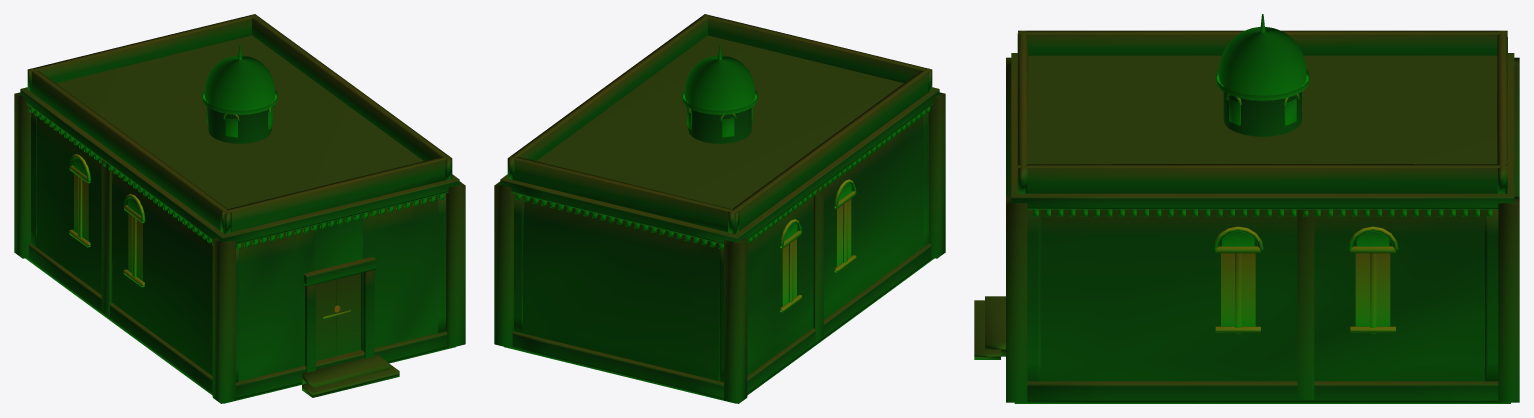
File: order_chapel.glb
3 views of the same model, side by side, from view 1: azimuth 30°, elevation 25°; view 2: azimuth 150°, elevation 25°; view 3: azimuth 270°, elevation 25° (orthographic). The views are drawn at different scales.
Visible parts, largest first — view 1: order_chapel; view 2: order_chapel; view 3: order_chapel.
Boxes of the visible parts, box(x1,y1,x2,y2) form: order_chapel: box(14, 14, 465, 403); order_chapel: box(494, 14, 945, 403); order_chapel: box(974, 14, 1519, 403).
Size of what is drawn, in the model's own units: 6.43 by 6.47 by 10.01.
